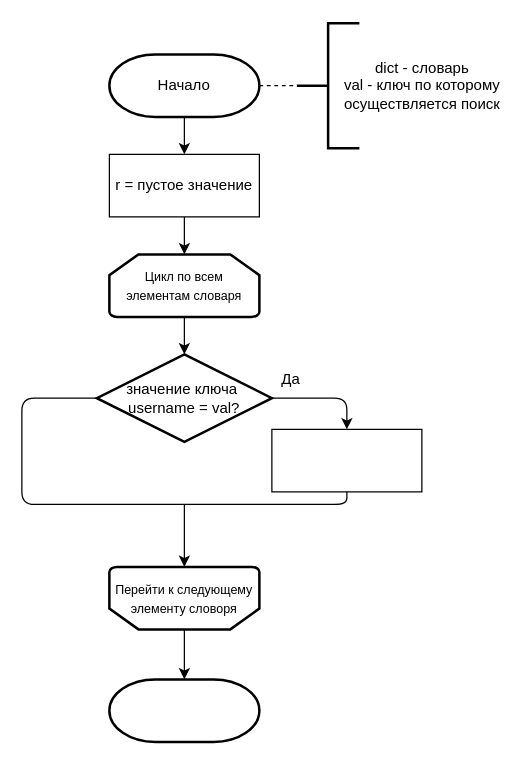
The diagram is 531 pixels wide and 764 high, and some of its shapes have lost their labels. The shapes that lost their labels are listed below. From the top down, each one's centre as x and y in pixels, then its label:
At (346,460): "r = текущий элемент словаря".
At (184,710): "Конец".
